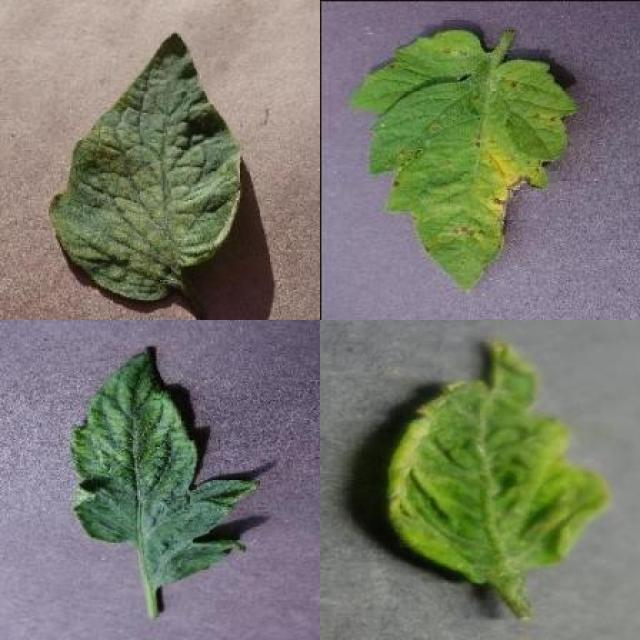Mosaic Virus: (72, 342, 265, 588)
Septoria: (346, 27, 574, 290)
Spider Mites: (50, 32, 243, 302)
Yellow Leaf Curl Virus: (384, 338, 610, 585)
